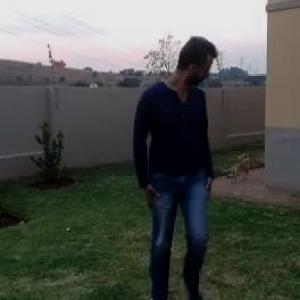follow: (130, 31, 225, 299)
